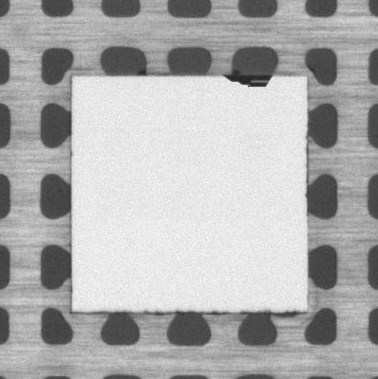DIE_BROKEN: (221, 71, 273, 89)
